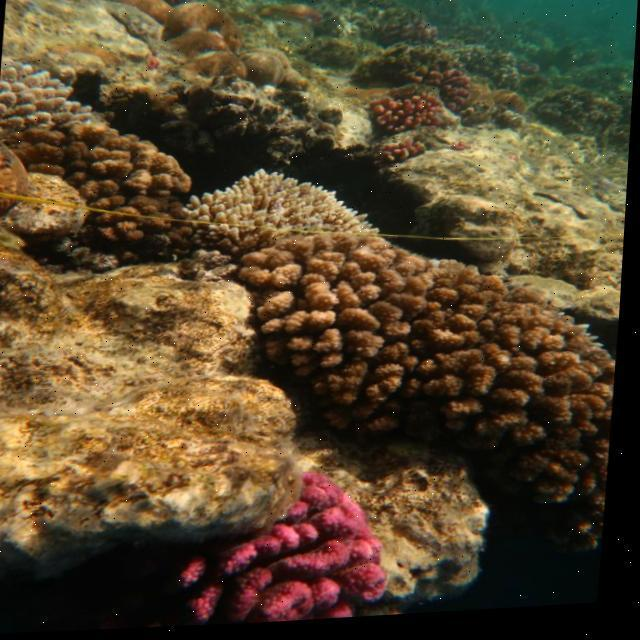Healthy Coral: (234, 231, 620, 474), (160, 464, 423, 630), (19, 118, 198, 254)
